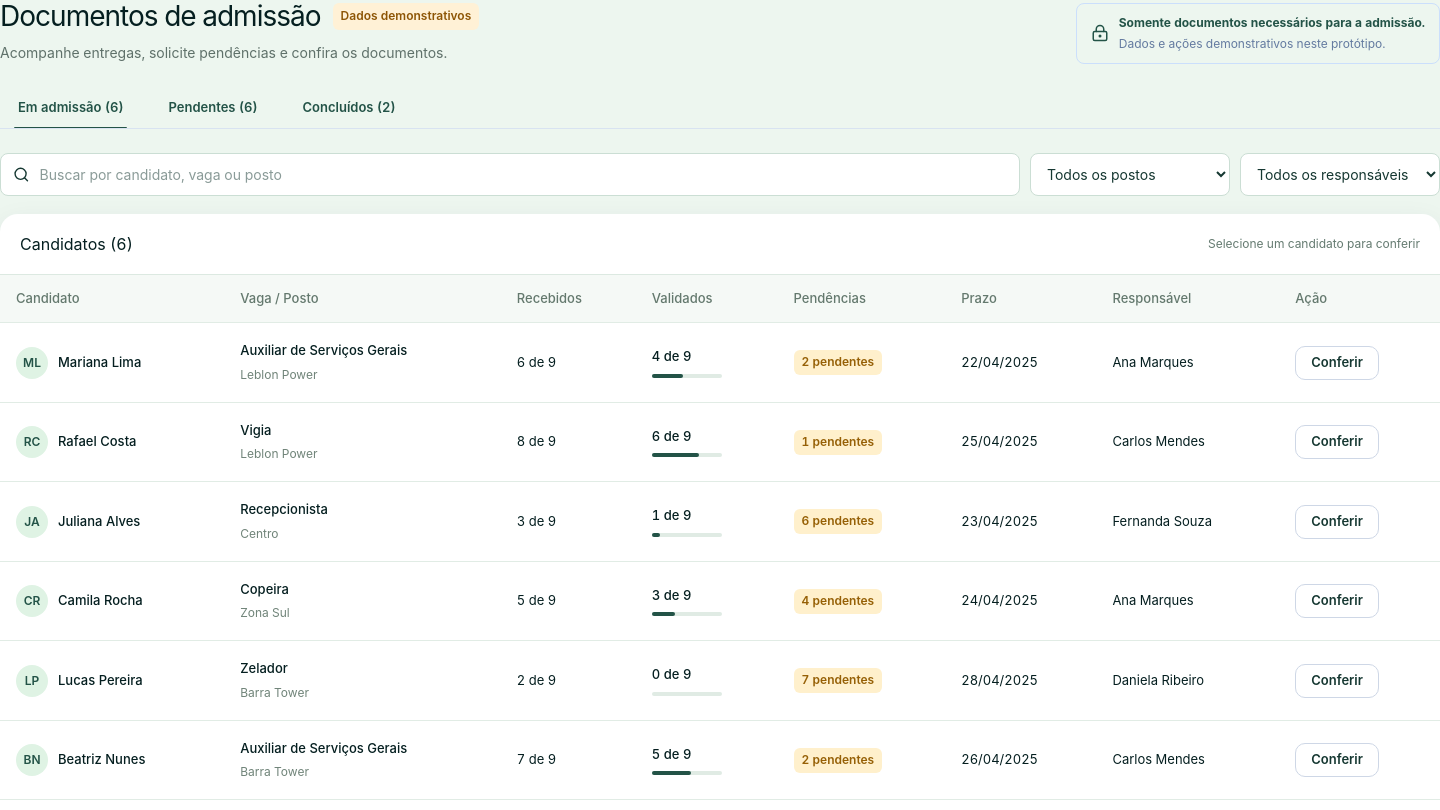
Test: Documentos de admissão › validates received documents and requires a correction reason
Click the button with aria-label "Abrir documentos de Mariana Lima": click(79, 363) [16,347,141,379]
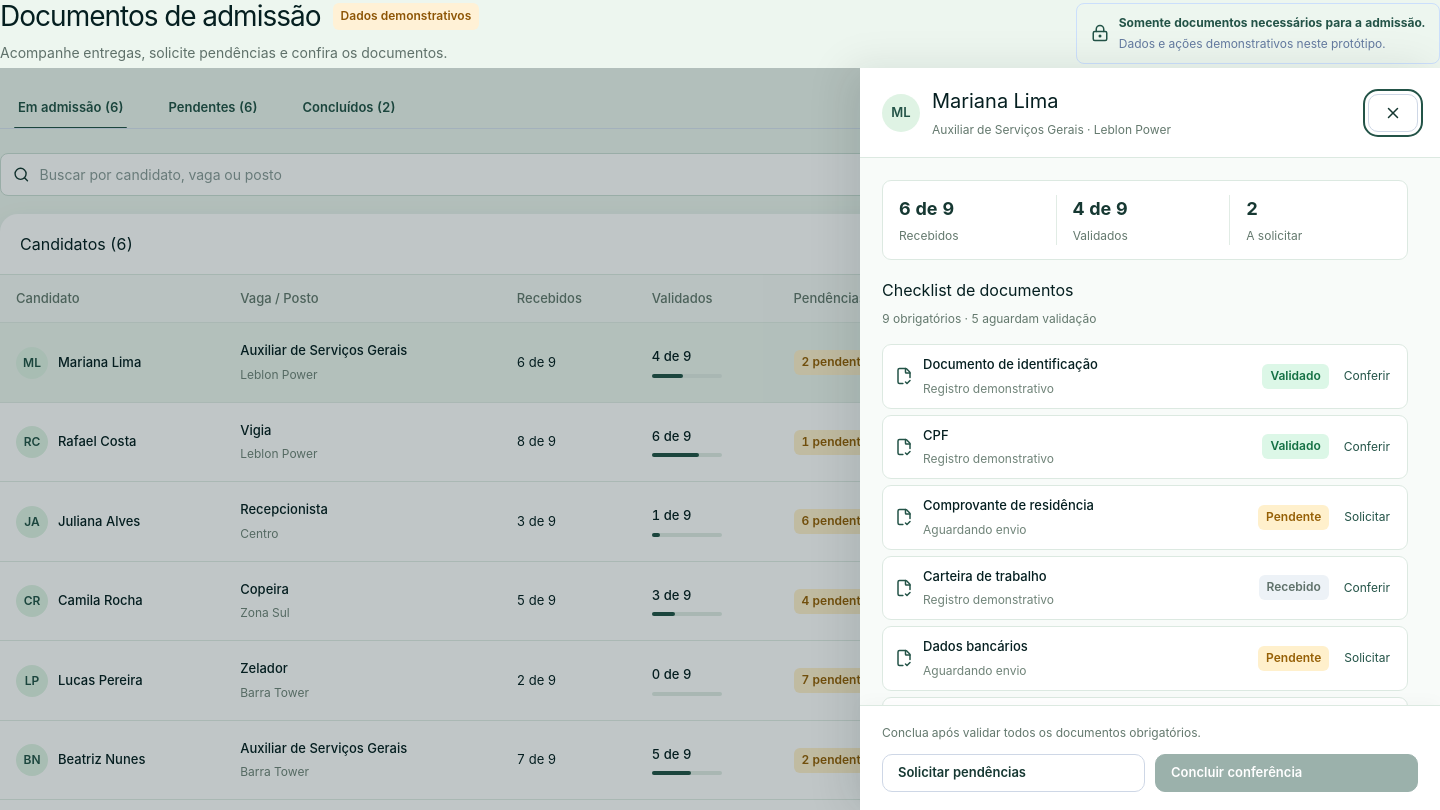
Click the button with aria-label "Conferir Carteira de trabalho": click(1367, 588) [1339,574,1395,602]
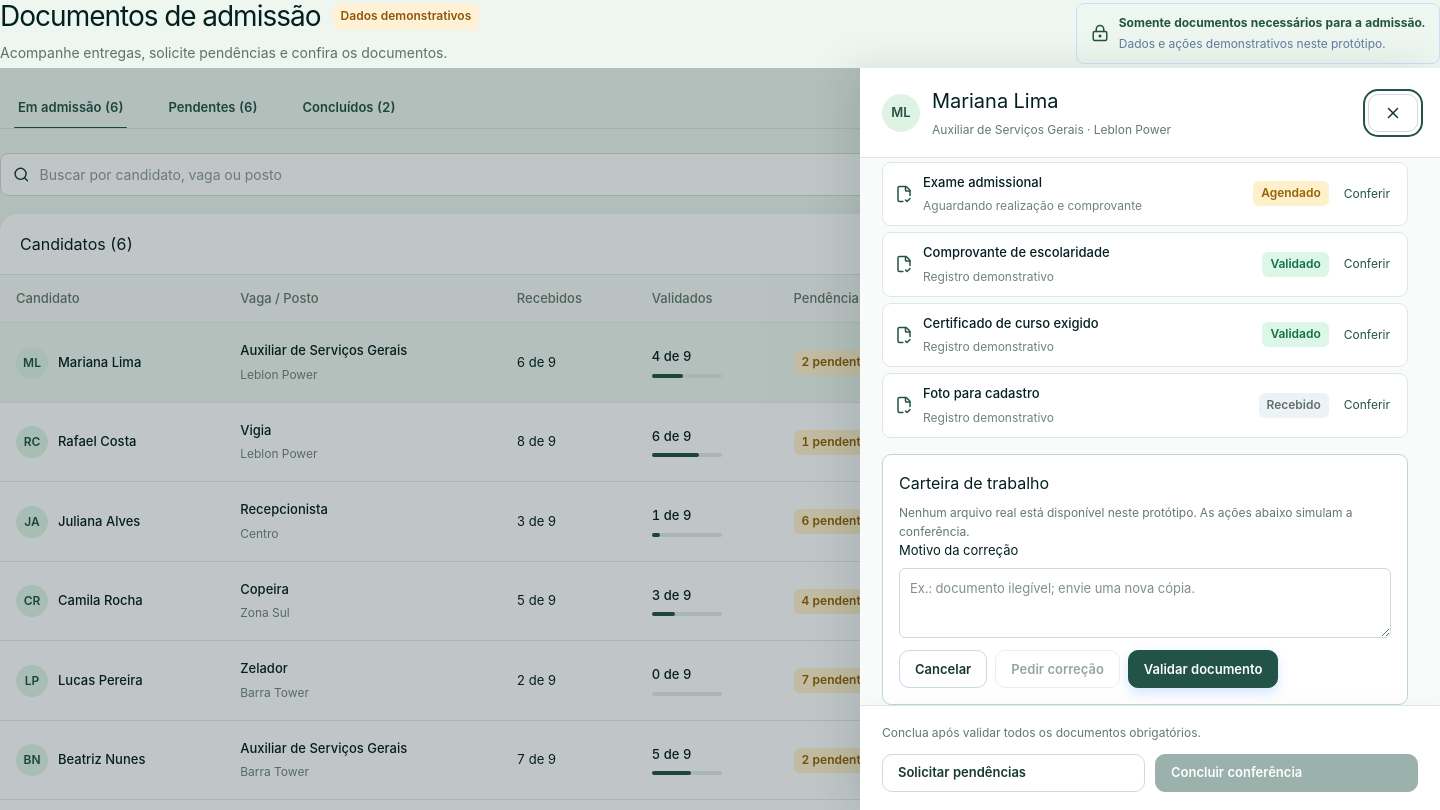
Result: the button "Pedir correção" is disabled at [995,650,1120,688]
Click the button "Validar documento": click(1203, 669) [1128,650,1278,688]
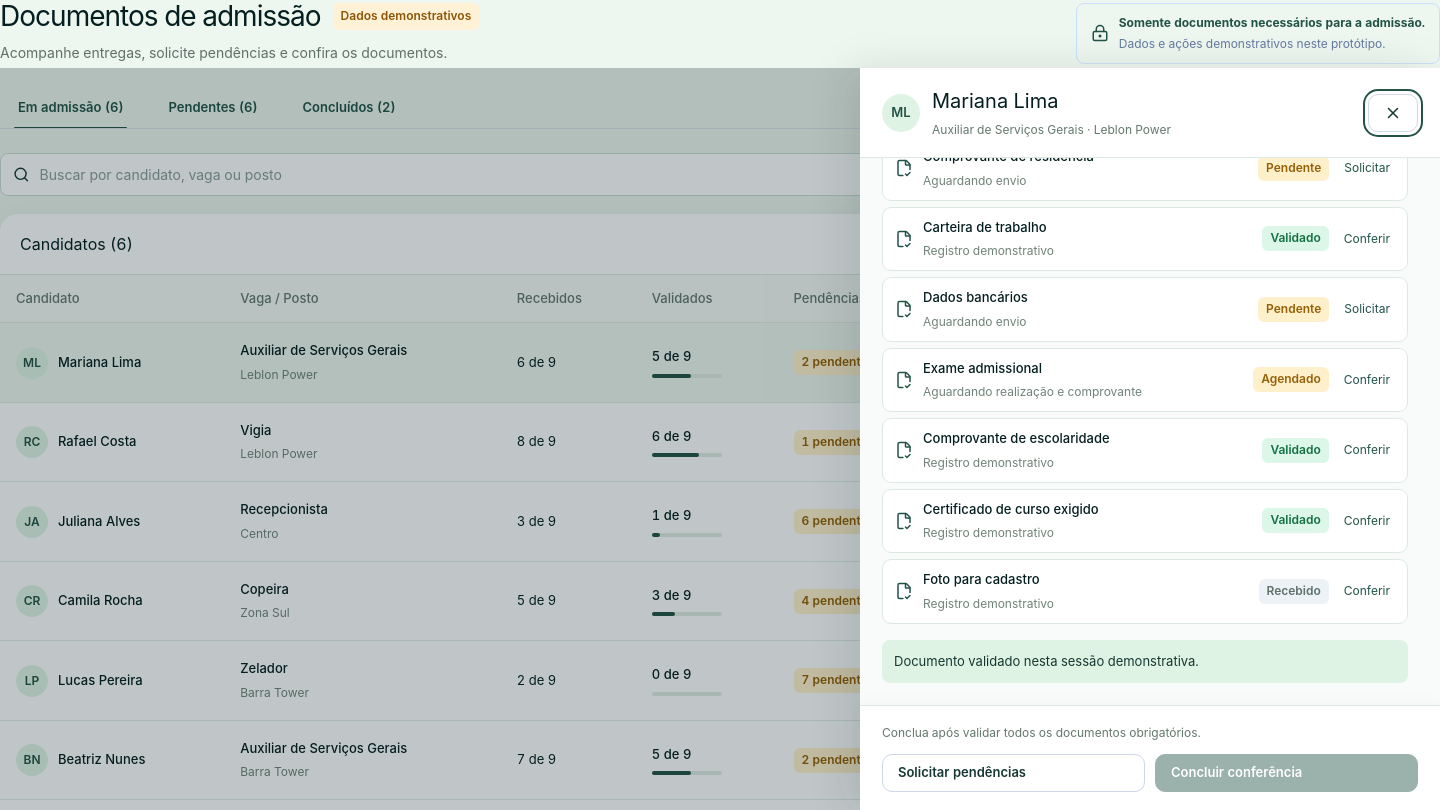
Click the button with aria-label "Conferir Foto para cadastro": click(1367, 591) [1339,577,1395,605]
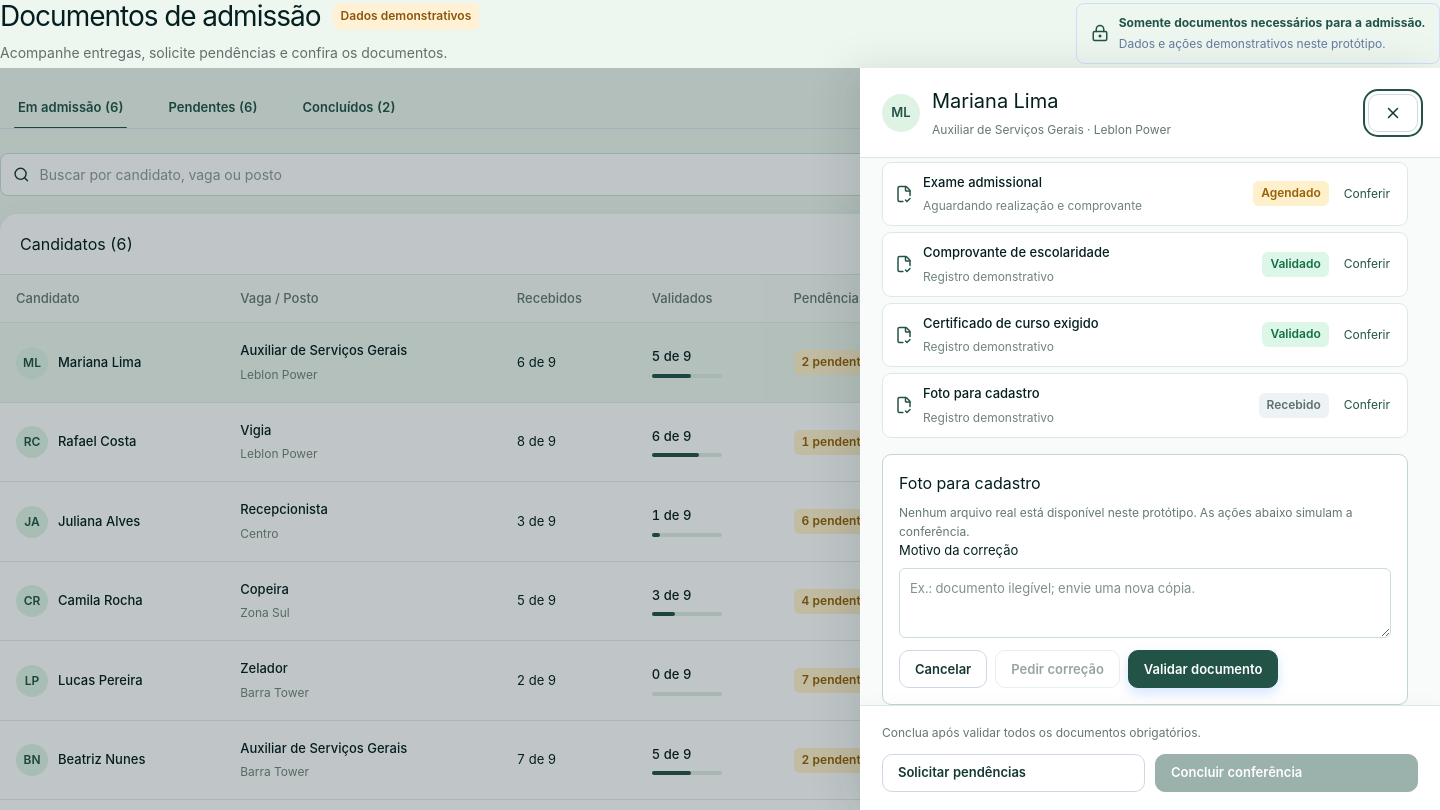
In the text box labelled "Motivo da correção": (1145, 603) [899,568,1391,638], type "Foto ilegível"
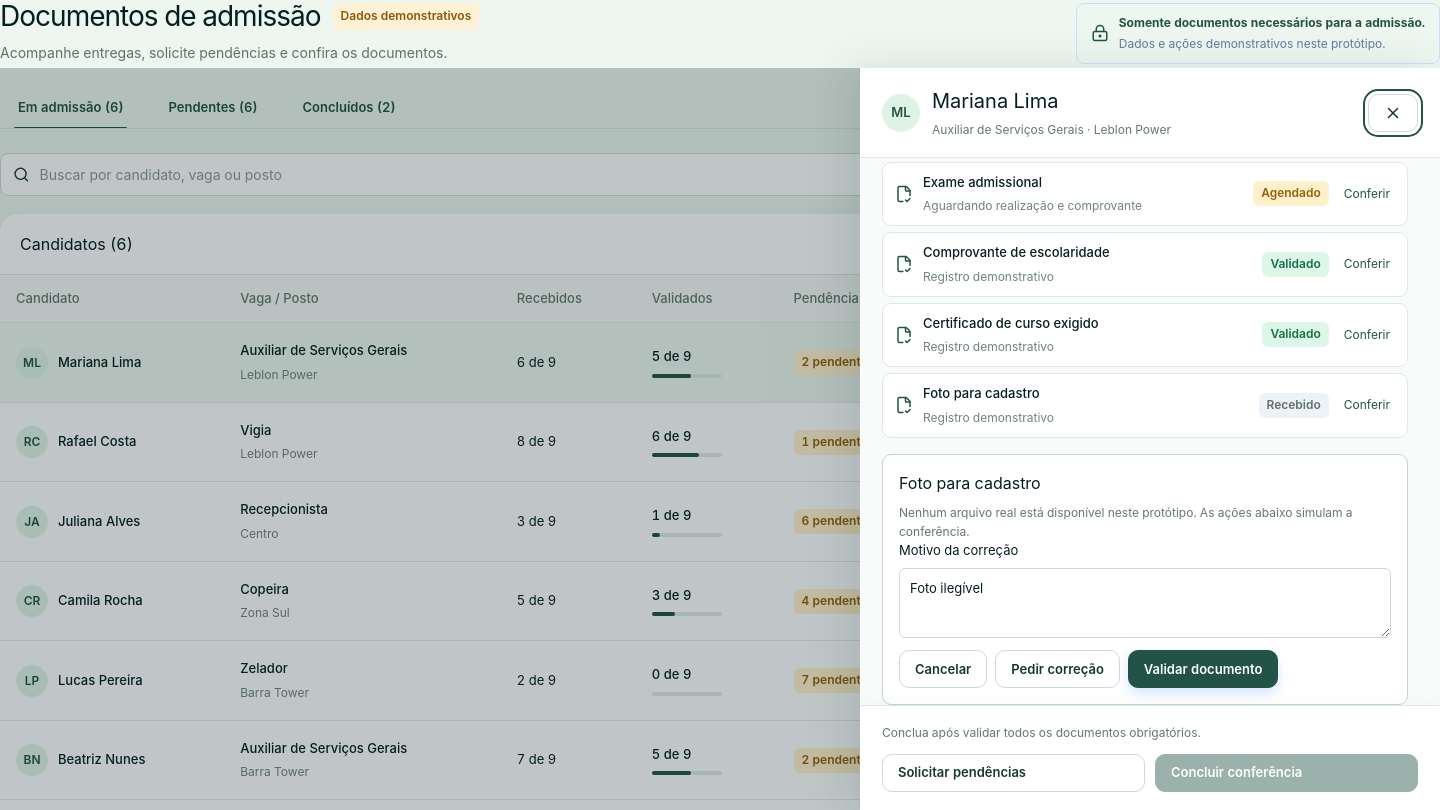
Click the button "Pedir correção": click(1058, 669) [995,650,1120,688]
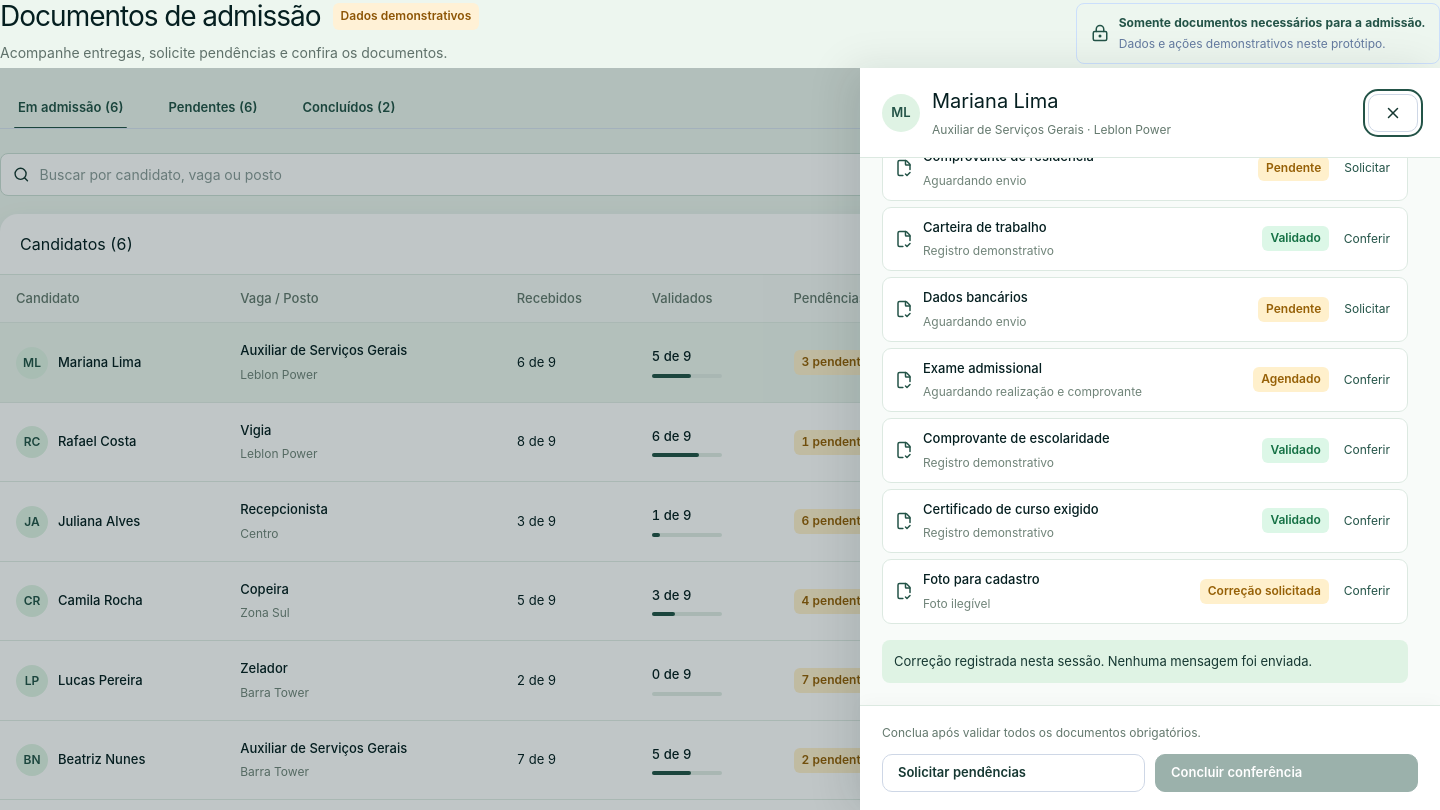
Result: the text "Foto ilegível" is shown at [923,596,990,610]
